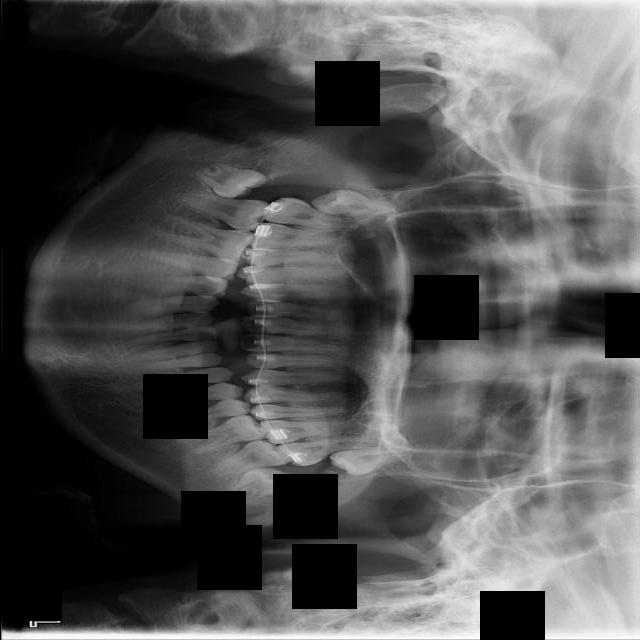3M ESPE Implant: (310, 186, 402, 223)
73: (42, 588, 52, 592)
BioHorizons Implant: (275, 431, 380, 470)
BioLife Implant: (329, 446, 413, 478)
Biomet 3i Implant: (230, 464, 298, 500)
Blue Sky Bio Implant: (204, 431, 294, 482)
Caries: (260, 194, 358, 234)
Implant: (170, 189, 270, 236)
Keystone Dental Implant: (190, 157, 268, 206)
